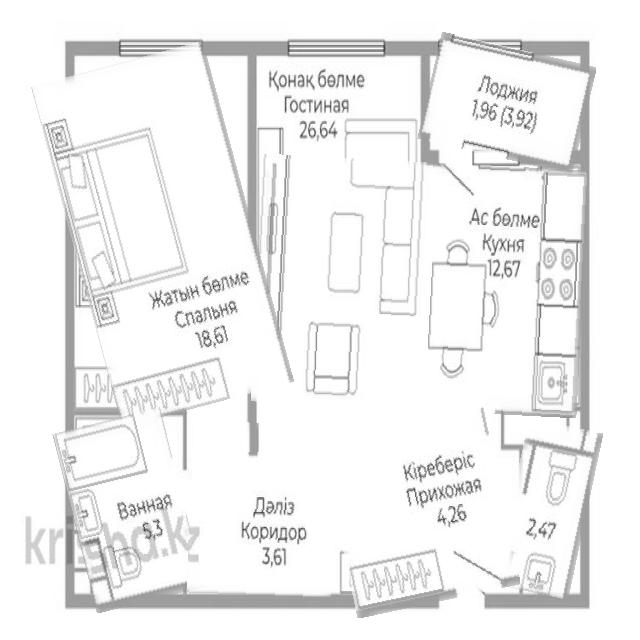balcony: (254, 158, 586, 414), (422, 40, 591, 166)
bathroom: (63, 413, 194, 608), (502, 421, 595, 597)
hallway: (329, 414, 512, 611), (188, 422, 335, 596)
living_room: (53, 49, 273, 418)
